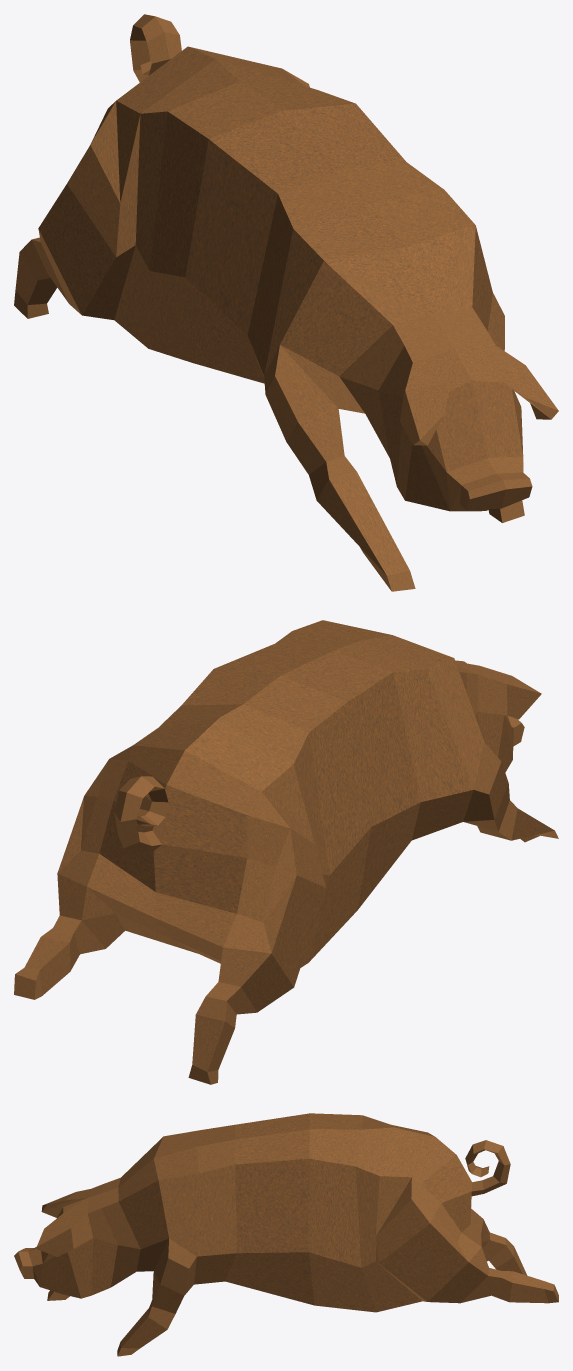
Rendered from Pig_000016.obj.
3 views of the same model, one above another, from view 1: azimuth 30°, elevation 25°; view 2: azimuth 150°, elevation 25°; view 3: azimuth 270°, elevation 25° (orthographic). The views are drawn at different scales.
Visible parts, largest first — view 1: Pig_Cylinder; view 2: Pig_Cylinder; view 3: Pig_Cylinder.
Part boxes in pixels (<box>): Pig_Cylinder: <box>14,14,558,591</box>; Pig_Cylinder: <box>14,620,558,1084</box>; Pig_Cylinder: <box>14,1113,558,1356</box>.
Bounding box in the file's own units: 3.41 × 4.28 × 10.43.
Materials: 1 (1 with a texture image).
